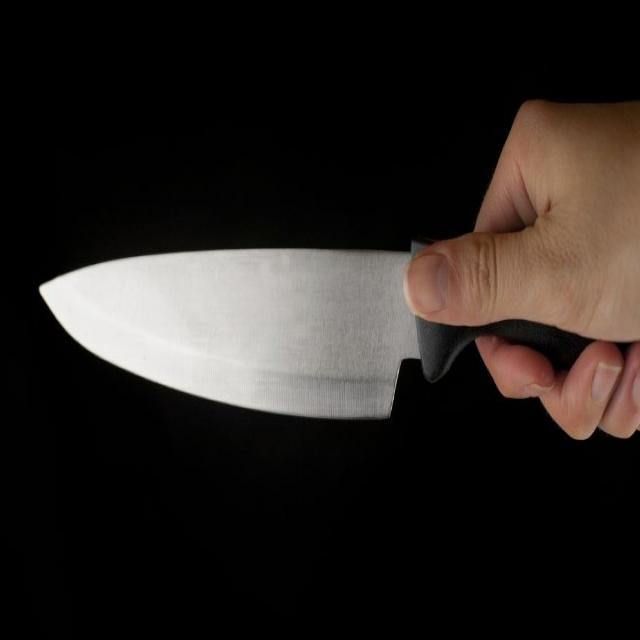knife: (34, 242, 628, 421)
